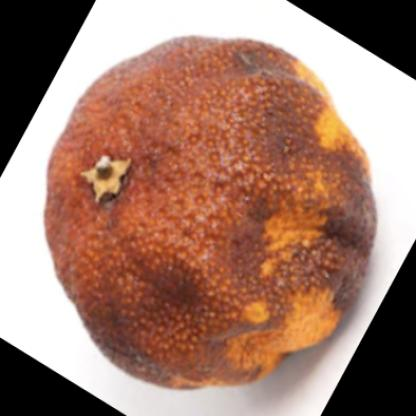rotten: (41, 36, 376, 388)
